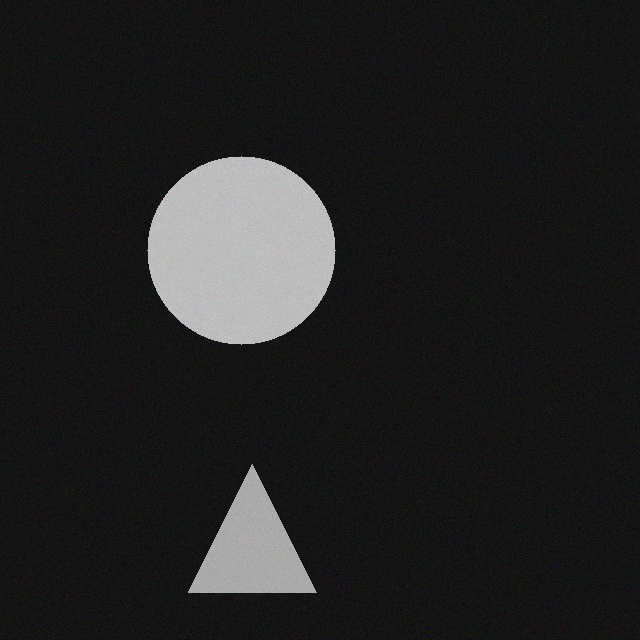circle: (146, 141, 334, 329)
triangle: (187, 449, 315, 577)
